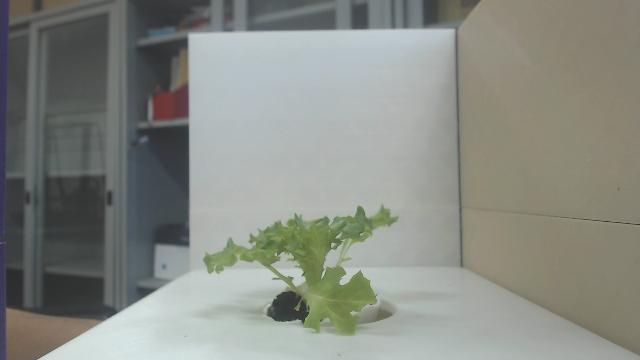Vegetative Stage: (202, 201, 400, 337)
